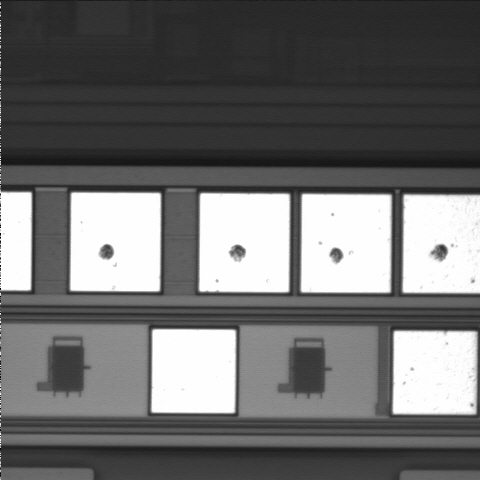pad: (199, 193, 290, 292), (70, 193, 161, 291), (301, 194, 391, 293), (152, 329, 236, 413), (393, 331, 476, 414)
